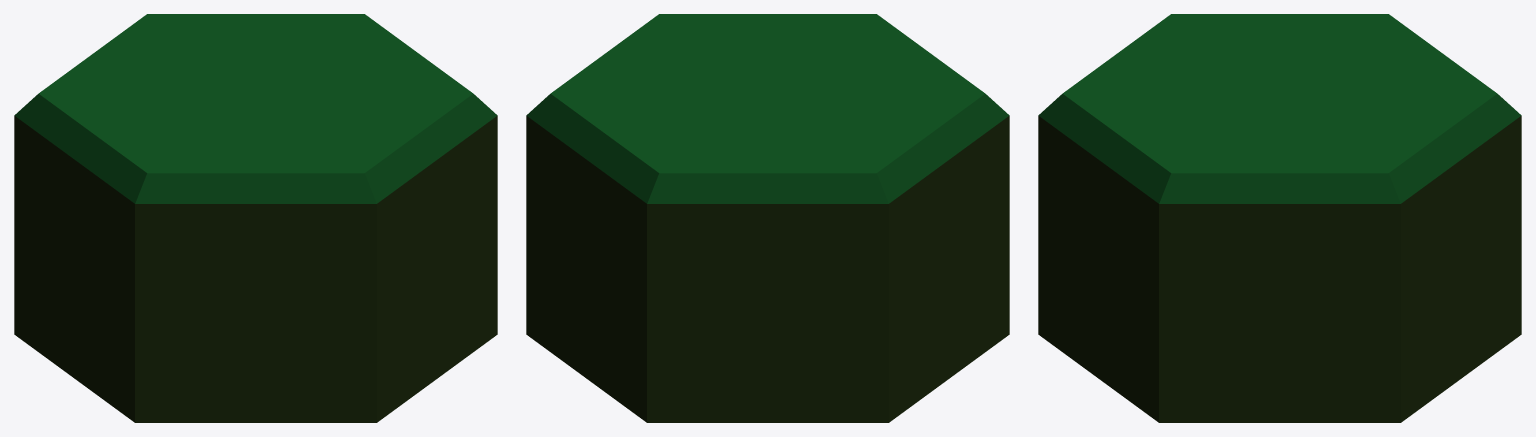
Rendered from Grass H0.fbx.
The picture shows the model from 3 angles, left to right: view 1: azimuth 30°, elevation 25°; view 2: azimuth 150°, elevation 25°; view 3: azimuth 270°, elevation 25°; orthographic projection.
Visible parts, largest first — view 1: Grass H0; view 2: Grass H0; view 3: Grass H0.
Boxes of the visible parts, bbox=[...] form: Grass H0: bbox=[14, 14, 497, 422]; Grass H0: bbox=[526, 14, 1009, 422]; Grass H0: bbox=[1038, 14, 1521, 422].
Bounding box in the file's own units: 173 × 110 × 200.
